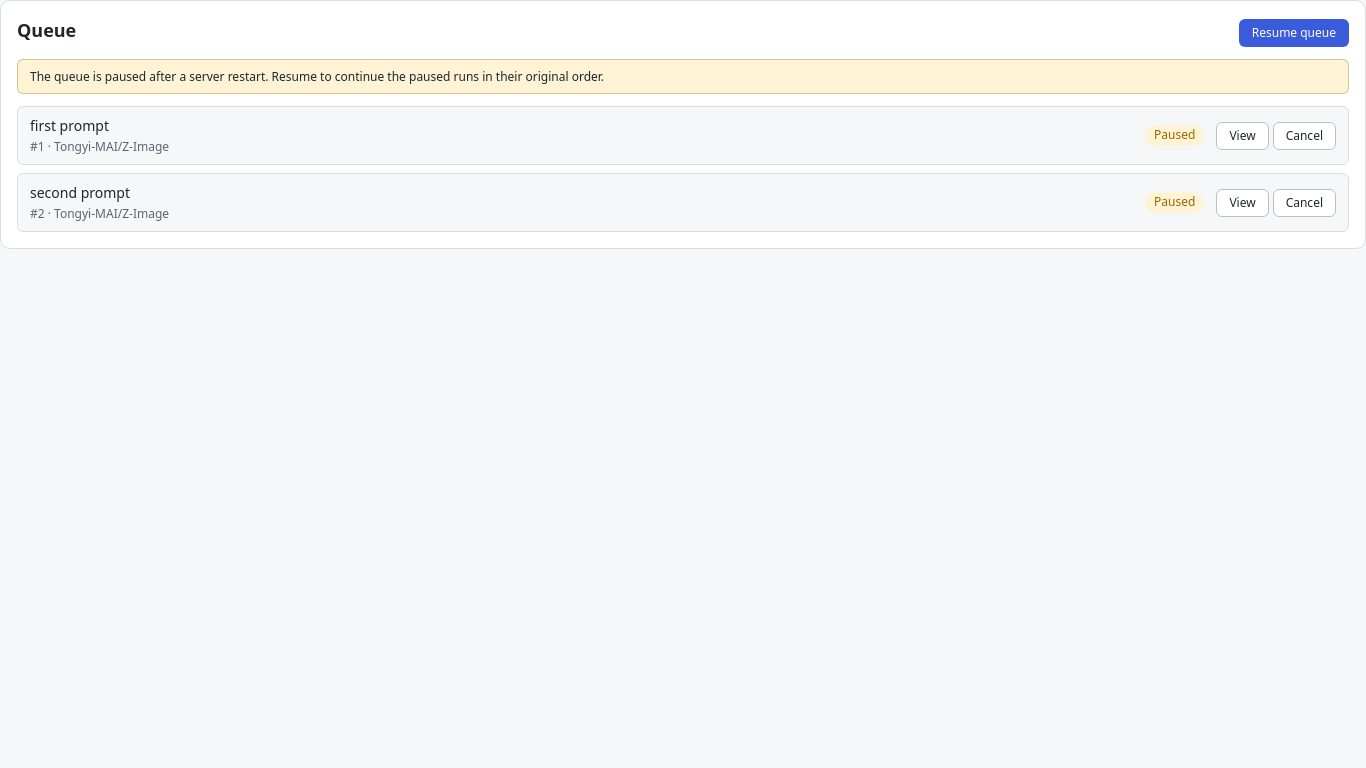
QueuePanel › removes a cancelled paused row from the response and filters stale queue reads
expect the text "first prompt" is shown: met, box [30,116,109,135]
Click the 3rd button named "Cancel": (1304, 136) [1273,122,1336,150]
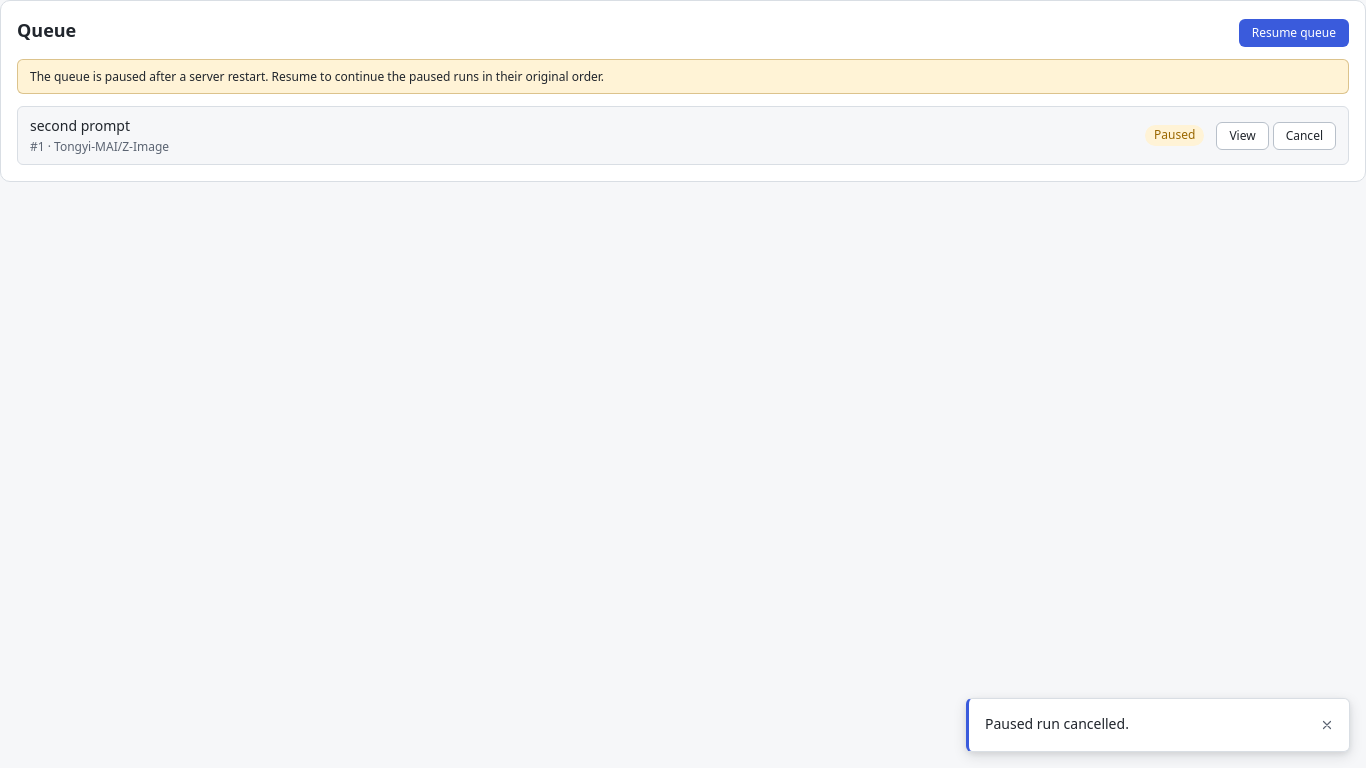
expect the text "first prompt" is not shown: met
expect the 3rd text "Paused run cancelled." is shown: met, box [985,714,1129,733]
